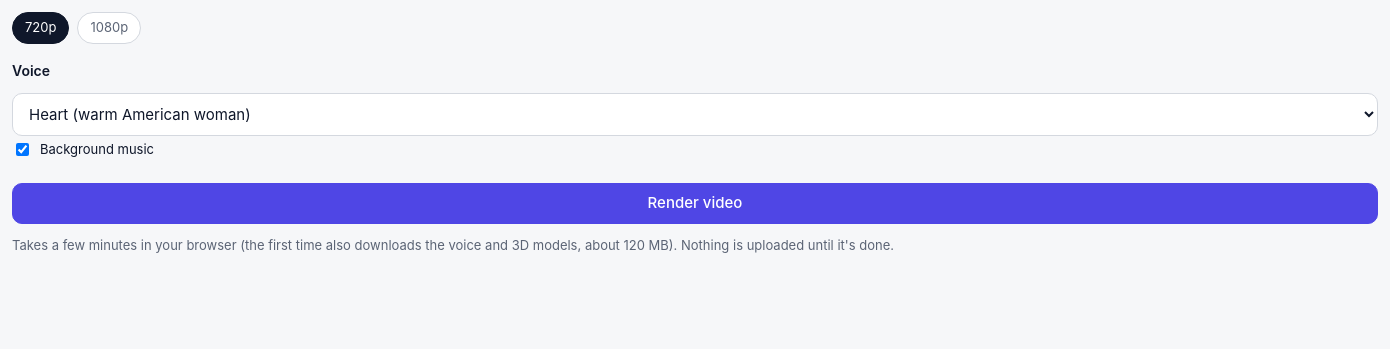
RenderPanel › resets the server state and explains when rendering fails
Click the button "Render video". click: (695, 203)
box: left=12, top=183, right=1378, bottom=224
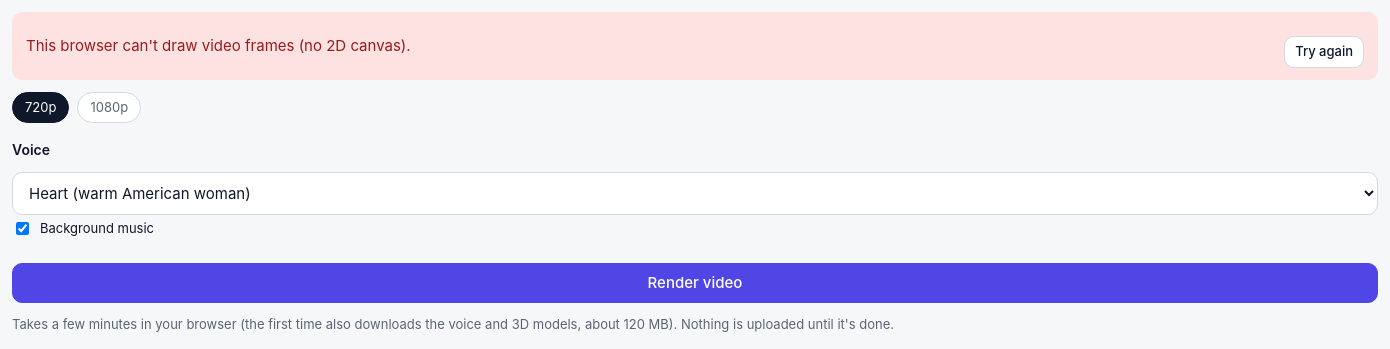
Now the text "This browser can't draw video frames (no 2D canvas)." is shown, box left=26, top=34, right=411, bottom=57
Now the button "Try again" is shown, box left=1284, top=36, right=1364, bottom=68
